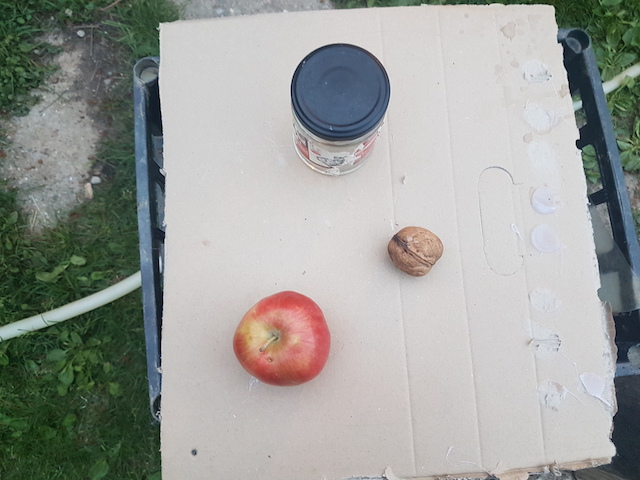apple: (228, 290, 335, 386)
nut: (386, 224, 444, 278)
recipient: (290, 40, 393, 142)
